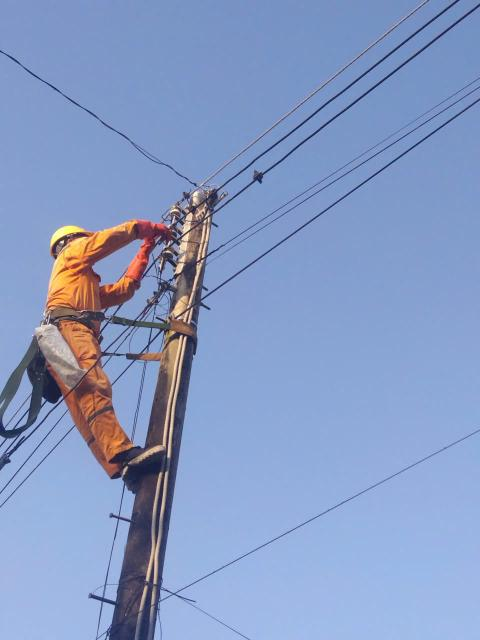gloves: (130, 217, 178, 251), (126, 243, 154, 284)
harness: (31, 298, 117, 337)
helmet: (41, 221, 102, 253)
shoes: (113, 436, 167, 482)
